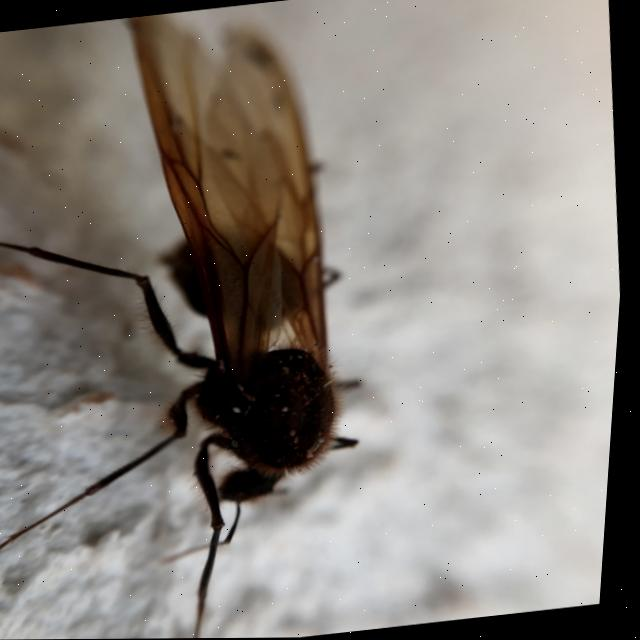Alive-Male-Alate: (0, 0, 412, 640)
